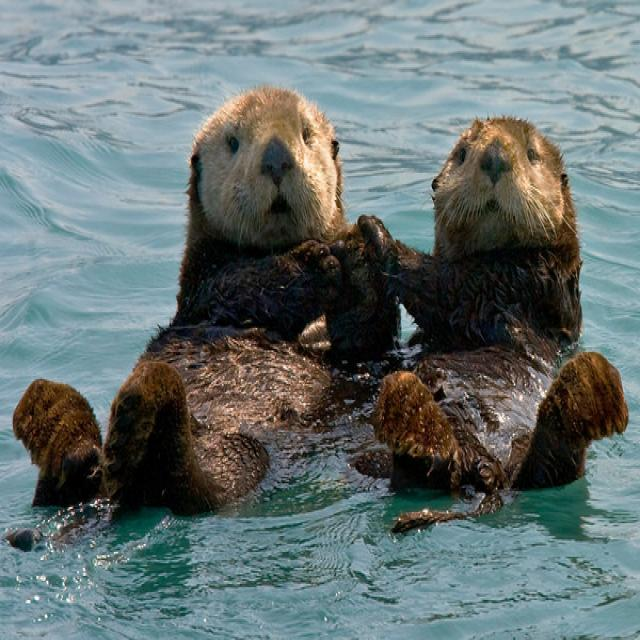otter: (17, 88, 374, 478), (374, 118, 628, 493)
